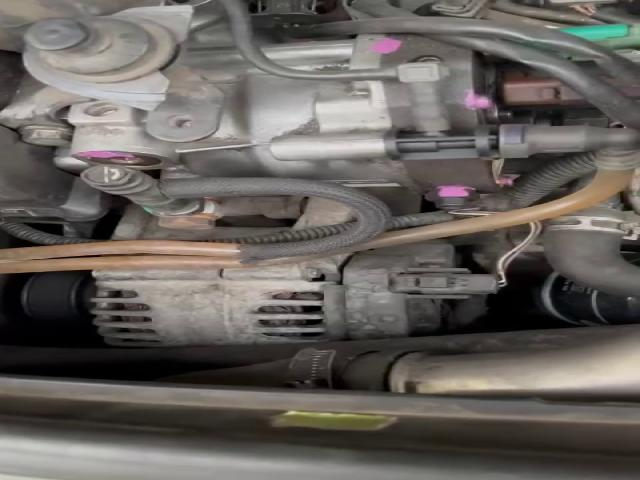alternator: (83, 235, 506, 347)
high_pressure_pump: (48, 30, 530, 212)
